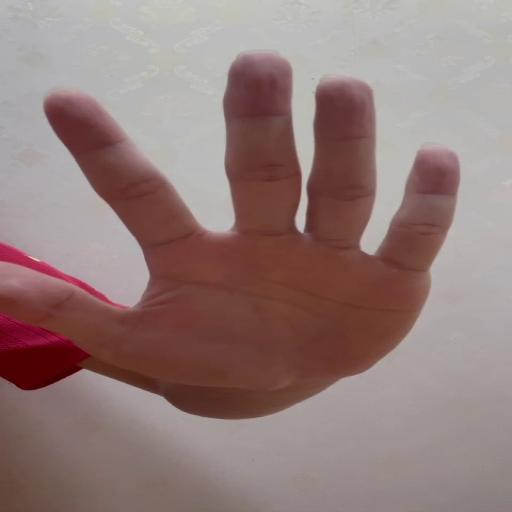open_palm: (2, 50, 462, 390)
